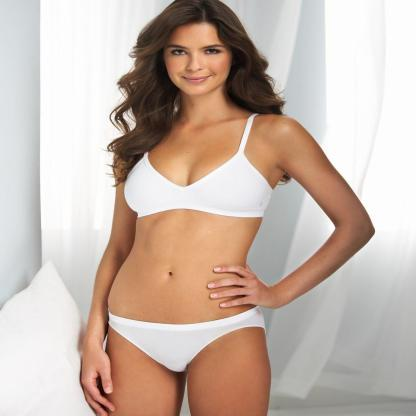long-hair: (96, 95, 290, 122)
